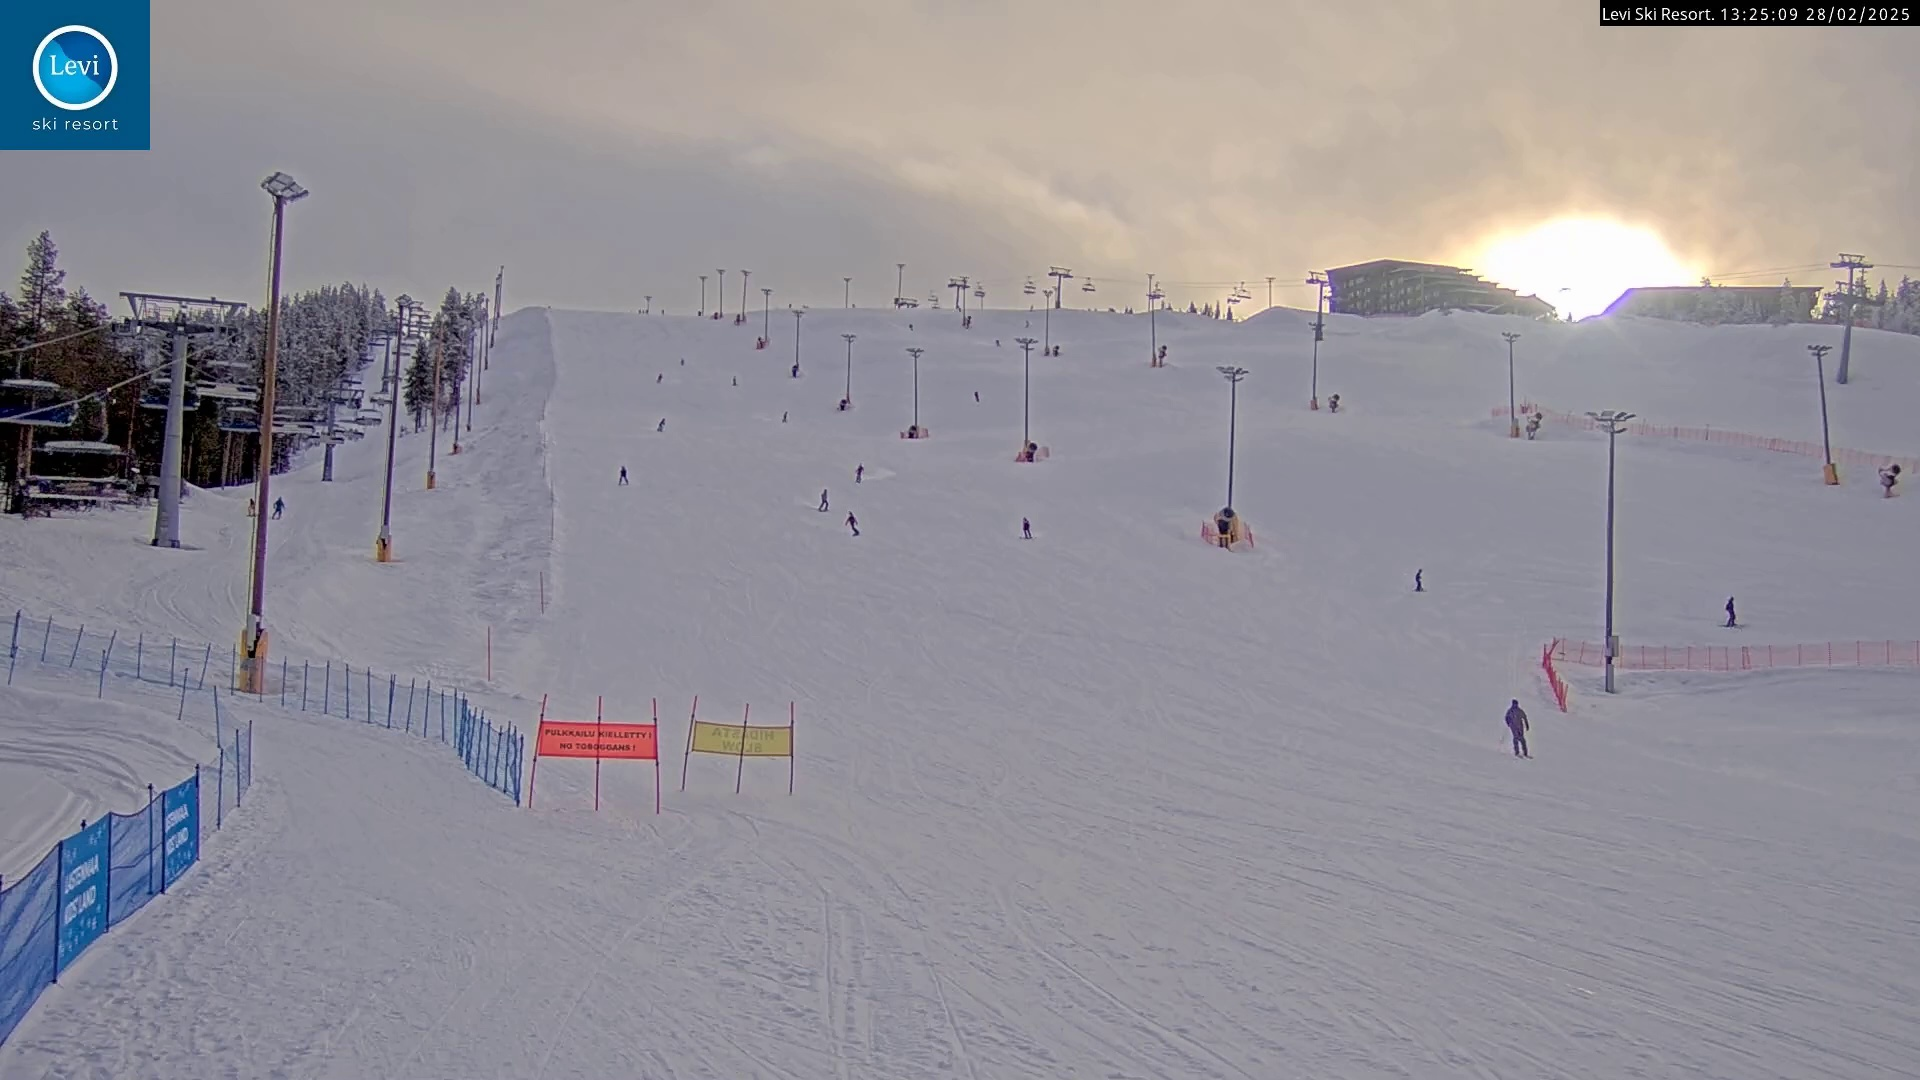skier: (1499, 695, 1535, 757)
